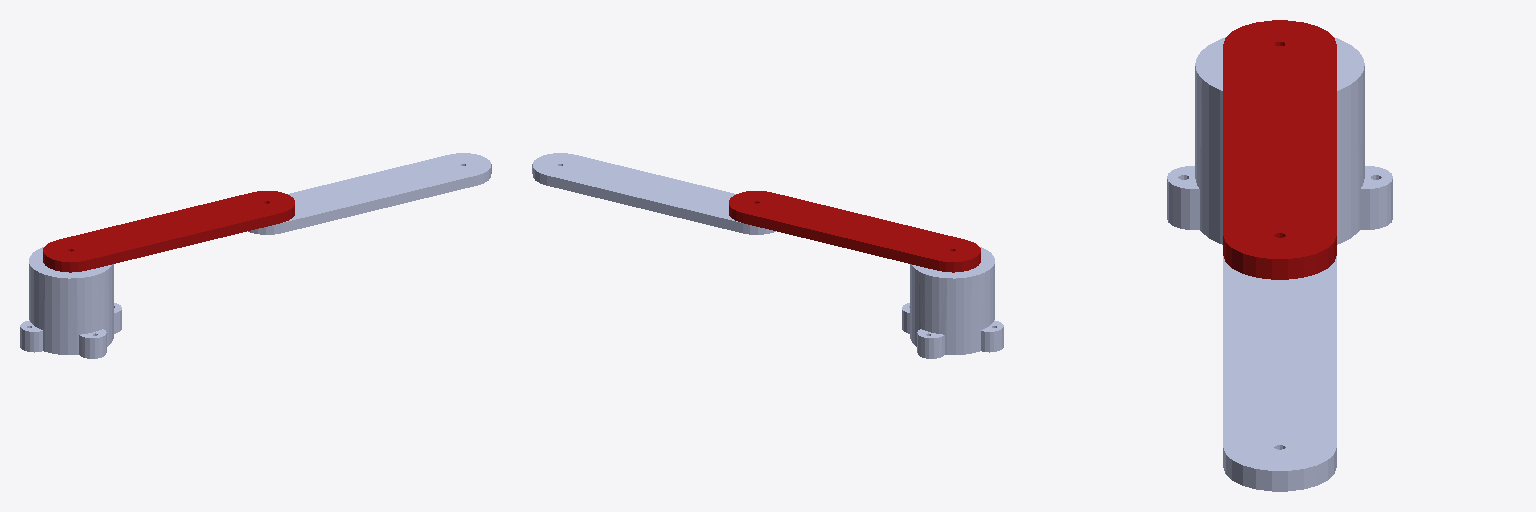
The robot description file, URDF, robot "assembly.SLDASM":
<?xml version="1.0" encoding="utf-8"?>
<!-- This URDF was automatically created by SolidWorks to URDF Exporter! Originally created by [author] ([email redacted]) 
     Commit Version: 1.6.0-4-g7f85cfe  Build Version: 1.6.7995.38578
     For more information, please see http://wiki.ros.org/sw_urdf_exporter -->
<robot
  name="assembly.SLDASM">
  <link
    name="base_link">
    <inertial>
      <origin
        xyz="-2.65978635290736E-18 2.32218677747017E-19 0.0359682827961964"
        rpy="0 0 0" />
      <mass
        value="0.349324168195258" />
      <inertia
        ixx="0.000303722827831119"
        ixy="-6.40012014226057E-21"
        ixz="-3.09225646669431E-20"
        iyy="0.000303722827831119"
        iyz="9.83403121094466E-21"
        izz="0.000269108517521699" />
    </inertial>
    <visual>
      <origin
        xyz="0 0 0"
        rpy="0 0 0" />
      <geometry>
        <mesh
          filename="package://assembly.SLDASM/meshes/base_link.STL" />
      </geometry>
      <material
        name="">
        <color
          rgba="0.792156862745098 0.819607843137255 0.933333333333333 1" />
      </material>
    </visual>
    <collision>
      <origin
        xyz="0 0 0"
        rpy="0 0 0" />
      <geometry>
        <mesh
          filename="package://assembly.SLDASM/meshes/base_link.STL" />
      </geometry>
    </collision>
  </link>
  <link
    name="link1">
    <inertial>
      <origin
        xyz="0.1 0.00499999999999999 8.0236264553021E-23"
        rpy="0 0 0" />
      <mass
        value="0.119242255003237" />
      <inertia
        ixx="2.48943667751497E-05"
        ixy="-2.10026327406034E-23"
        ixz="7.05860789378577E-22"
        iyy="0.00059439057933262"
        iyz="-8.82325986723232E-23"
        izz="0.000571483583474191" />
    </inertial>
    <visual>
      <origin
        xyz="0 0 0"
        rpy="0 0 0" />
      <geometry>
        <mesh
          filename="package://assembly.SLDASM/meshes/link1.STL" />
      </geometry>
      <material
        name="">
        <color
          rgba="0.694117647058824 0.0980392156862745 0.0980392156862745 1" />
      </material>
    </visual>
    <collision>
      <origin
        xyz="0 0 0"
        rpy="0 0 0" />
      <geometry>
        <mesh
          filename="package://assembly.SLDASM/meshes/link1.STL" />
      </geometry>
    </collision>
  </link>
  <joint
    name="joint1"
    type="revolute">
    <origin
      xyz="0 0 0.075"
      rpy="1.5708 0 0" />
    <parent
      link="base_link" />
    <child
      link="link1" />
    <axis
      xyz="0 1 0" />
    <limit
      lower="-0.7854"
      upper="0.7854"
      effort="0"
      velocity="0" />
  </joint>
  <link
    name="link2">
    <inertial>
      <origin
        xyz="0.1 -0.00499999999999998 -8.00757920239161E-20"
        rpy="0 0 0" />
      <mass
        value="0.119242255003237" />
      <inertia
        ixx="2.48943667751497E-05"
        ixy="-1.84112309778402E-21"
        ixz="-2.11758236813574E-21"
        iyy="0.00059439057933262"
        iyz="2.2940475654804E-22"
        izz="0.000571483583474191" />
    </inertial>
    <visual>
      <origin
        xyz="0 0 0"
        rpy="0 0 0" />
      <geometry>
        <mesh
          filename="package://assembly.SLDASM/meshes/link2.STL" />
      </geometry>
      <material
        name="">
        <color
          rgba="0.792156862745098 0.819607843137255 0.933333333333333 1" />
      </material>
    </visual>
    <collision>
      <origin
        xyz="0 0 0"
        rpy="0 0 0" />
      <geometry>
        <mesh
          filename="package://assembly.SLDASM/meshes/link2.STL" />
      </geometry>
    </collision>
  </link>
  <joint
    name="joint2"
    type="revolute">
    <origin
      xyz="0.2 0 0"
      rpy="0 0 0" />
    <parent
      link="link1" />
    <child
      link="link2" />
    <axis
      xyz="0 1 0" />
    <limit
      lower="-0.7854"
      upper="0.7854"
      effort="0"
      velocity="0" />
  </joint>
</robot>

--- Facts derived from the render (not from the file) ---
3 views of the same robot in one strip: view 1: azimuth 30°, elevation 25°; view 2: azimuth 150°, elevation 25°; view 3: azimuth 270°, elevation 25° (orthographic).
Robot: assembly.SLDASM — 3 links, 2 joints (2 revolute); root link base_link; default pose: all joints at 0.
Visible links, largest first — view 1: link1, base_link, link2; view 2: link1, base_link, link2; view 3: link1, link2, base_link.
Boxes of the visible links, x1,y1,x2,y2 form: link1: (43, 191, 294, 272); base_link: (20, 247, 121, 358); link2: (248, 153, 491, 234); link1: (729, 191, 980, 272); base_link: (902, 247, 1003, 358); link2: (532, 153, 775, 234); link1: (1223, 20, 1336, 279); link2: (1223, 256, 1336, 491); base_link: (1167, 37, 1392, 244).
Bounding box of the posed robot: 0.4747 × 0.1 × 0.085 m (x, y, z).
3 mesh visuals loaded from 3 distinct referenced files (3 binary STL).